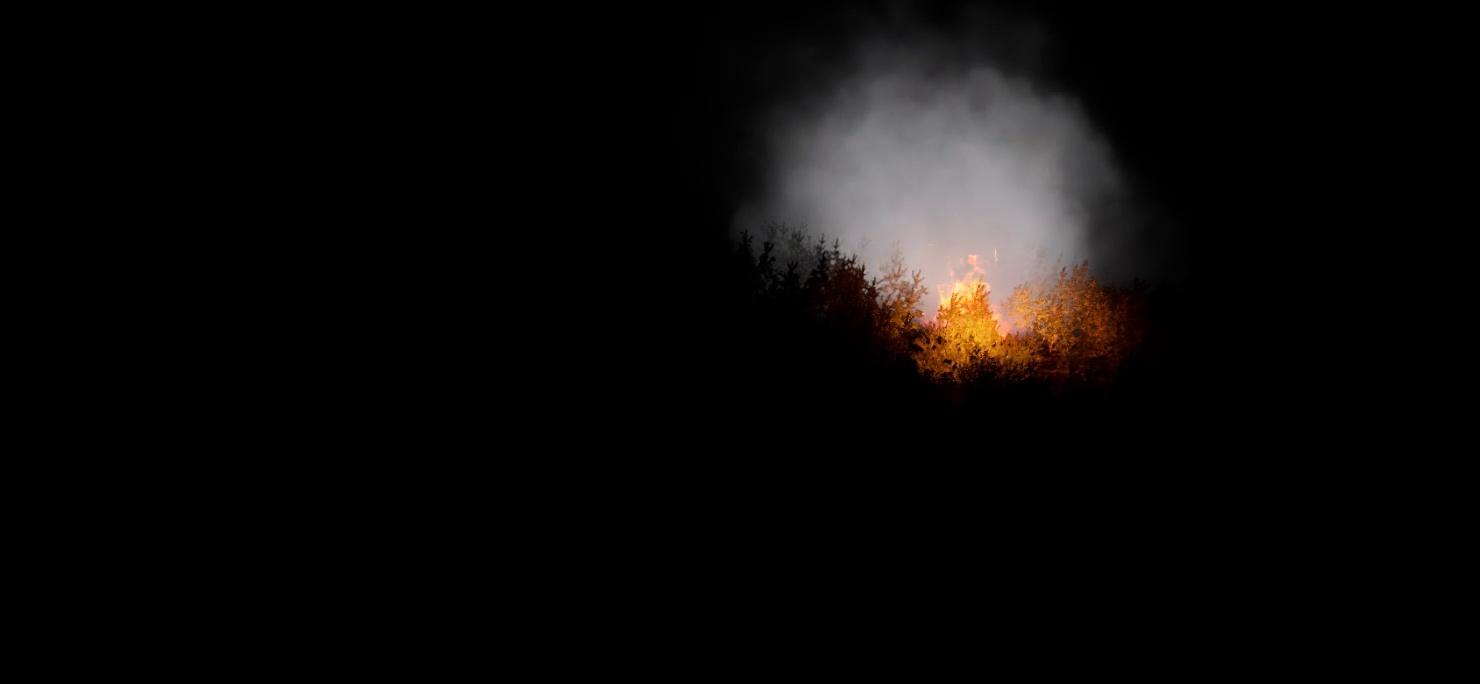fire: (934, 248, 1007, 317)
smoke: (728, 29, 1133, 327)
